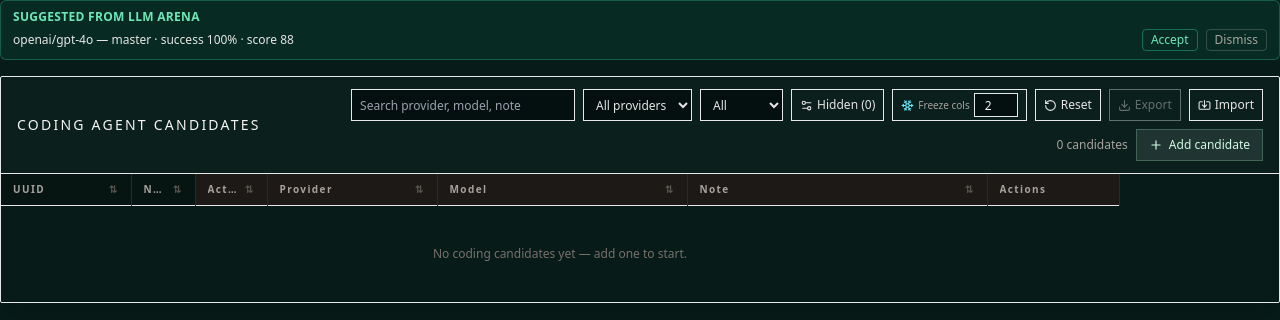
Test: Arena → Coding Candidates promotion pipeline (Suite E4–E7) › E5: a dismissed suggestion never comes back, even after remount
The image size is (1280, 320).
What coordinates should you click on to do the following:
click the button "Dismiss"
I would click on:
 (1236, 40)
Its box is x1=1206 y1=29 x2=1267 y2=51.
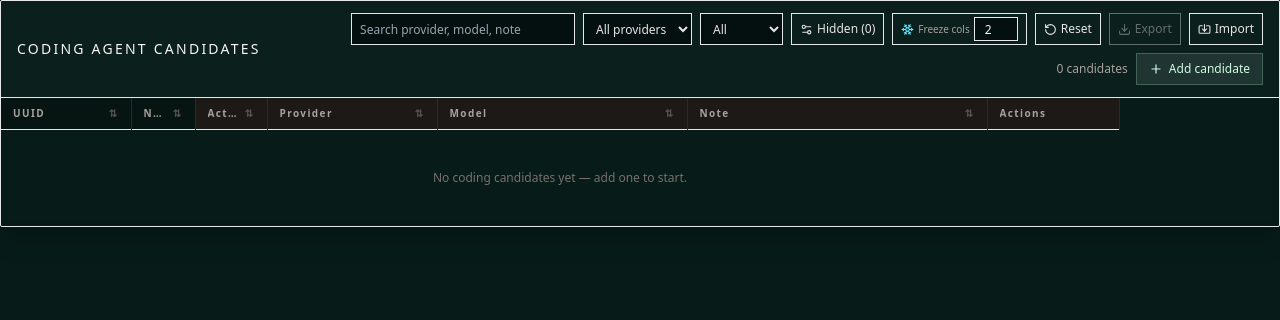
Now the element with test id "coding-suggestions-panel" is gone
